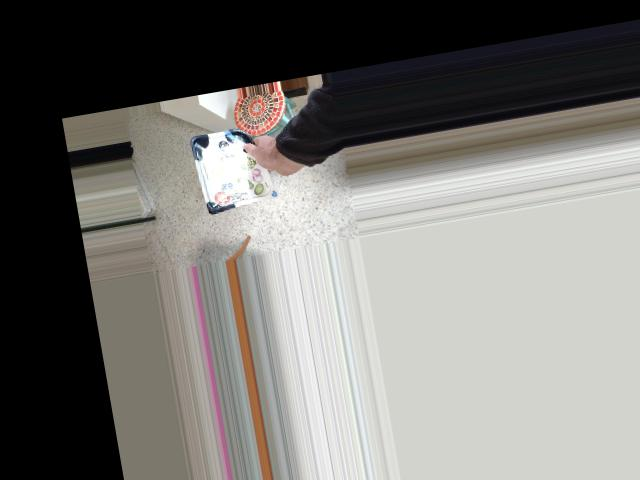cheese: (204, 117, 304, 210)
